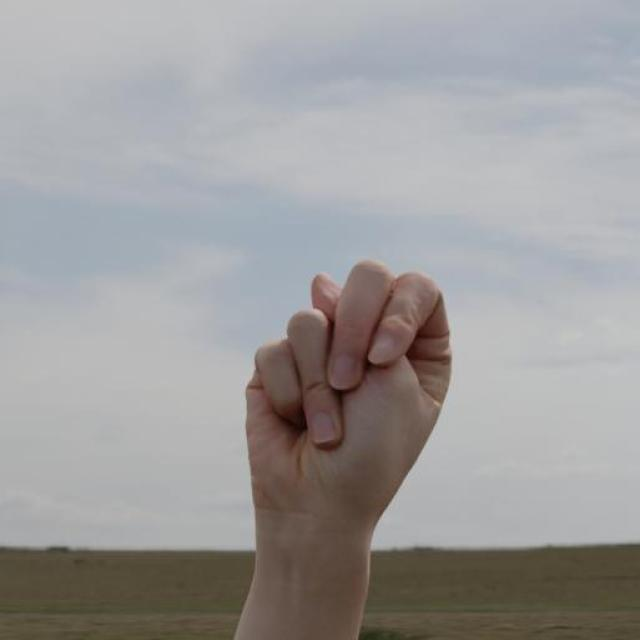N: (239, 258, 458, 532)
